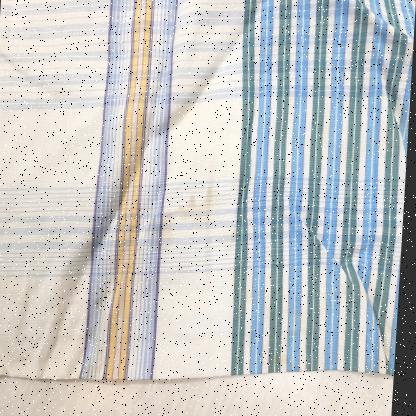spot: (61, 186, 200, 376), (140, 175, 229, 233), (268, 329, 312, 372)
